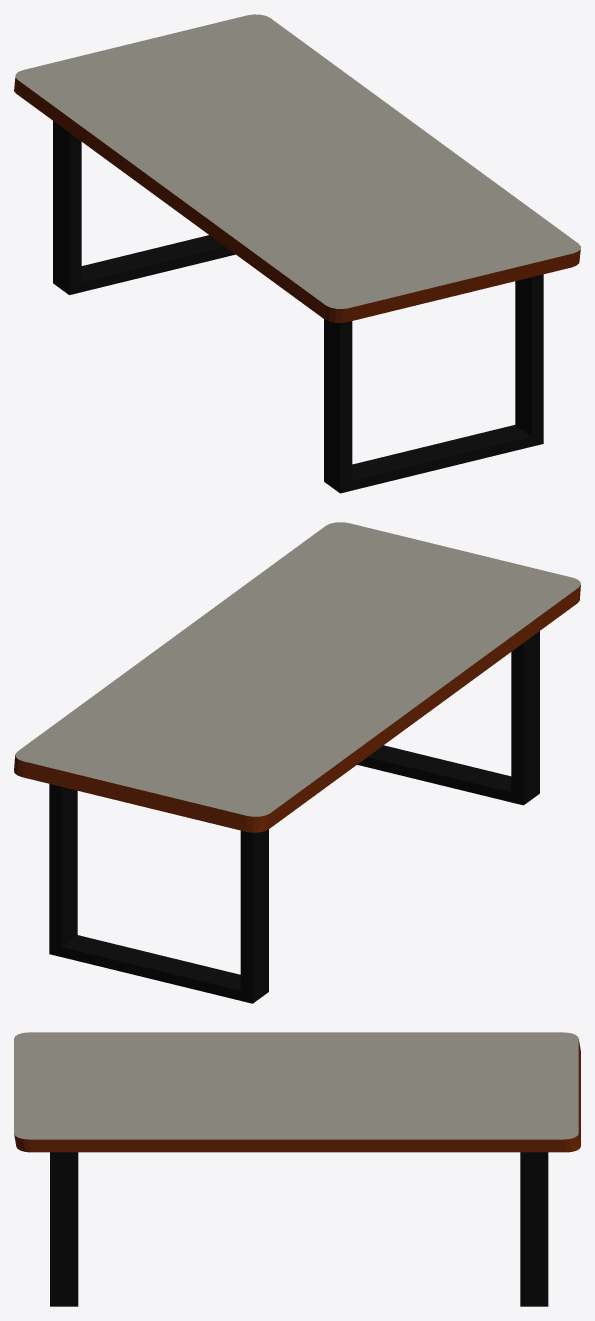
File: Banco.fbx
The picture shows the model from 3 angles, top to bottom: view 1: azimuth 30°, elevation 25°; view 2: azimuth 150°, elevation 25°; view 3: azimuth 270°, elevation 25°; orthographic projection. The views are drawn at different scales.
Parts seen in each view (by area): view 1: Cube, Cube.001, Cube.003; view 2: Cube, Cube.003, Cube.001; view 3: Cube, Cube.003, Cube.001.
Boxes of the visible parts, <box> form: Cube: <box>14,14,580,322</box>; Cube.001: <box>324,274,543,493</box>; Cube.003: <box>53,121,235,294</box>; Cube: <box>14,522,580,832</box>; Cube.003: <box>49,784,268,1003</box>; Cube.001: <box>357,631,539,805</box>; Cube: <box>14,1032,580,1152</box>; Cube.003: <box>520,1152,548,1306</box>; Cube.001: <box>50,1152,78,1306</box>.
Size of the model in its own units: 268 by 206 by 599.
